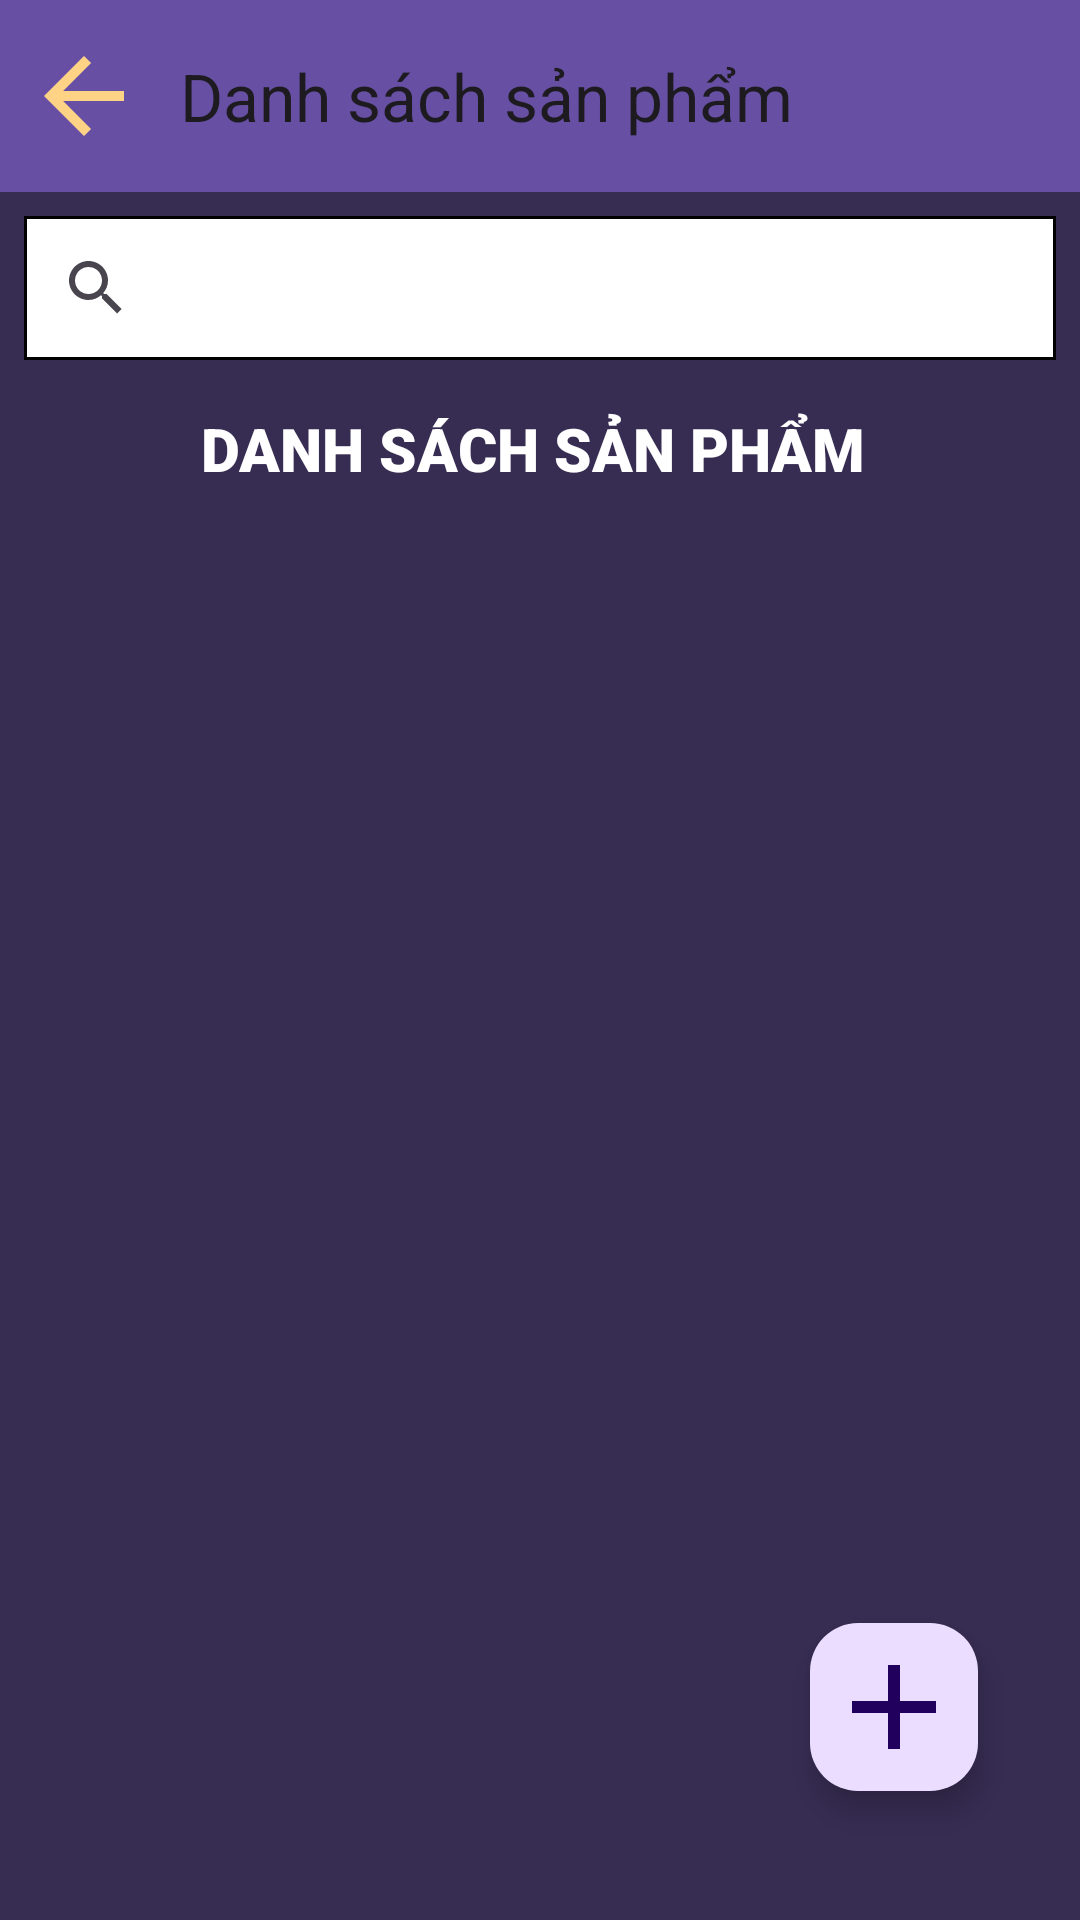

Icons on this 1080x1920 Android screen, each with the point to tap as [x,y]:
add: [894,1707]
